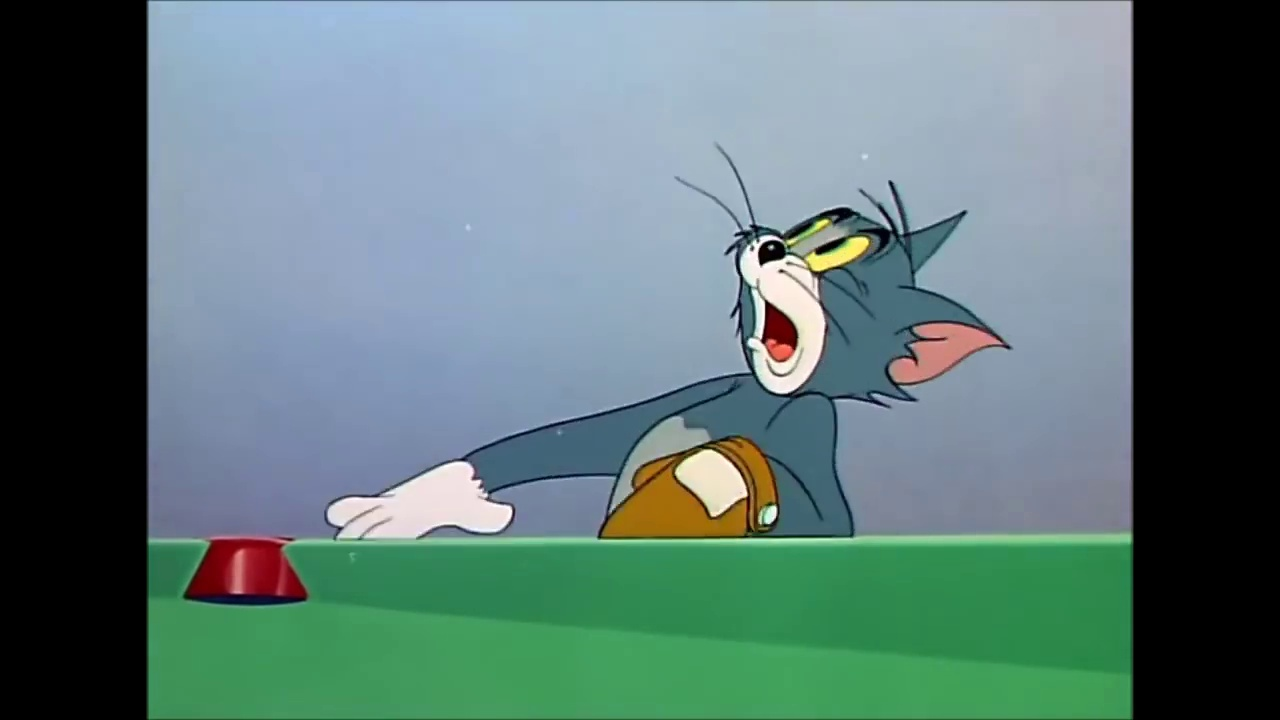surprised: (739, 207, 900, 394)
